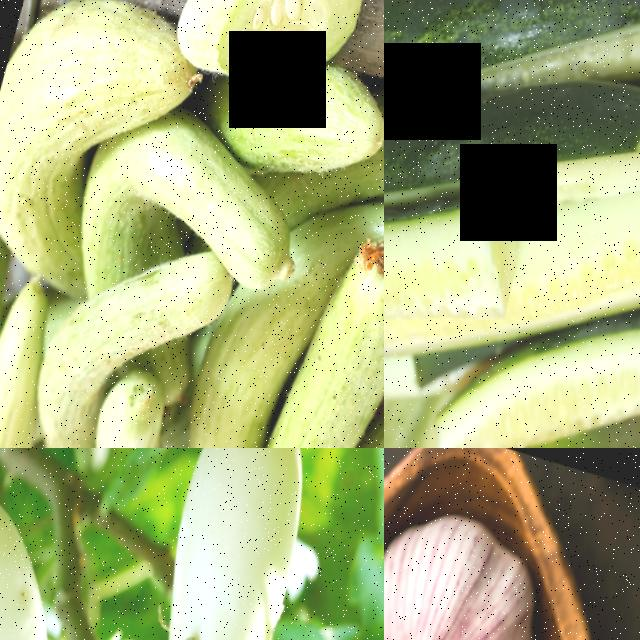cucumber: (434, 31, 640, 241), (242, 210, 384, 448), (437, 290, 640, 448), (384, 0, 592, 148), (166, 0, 376, 106), (384, 171, 493, 361)
eggplant: (125, 448, 337, 640), (0, 459, 112, 640)
garlic: (384, 488, 538, 640)
